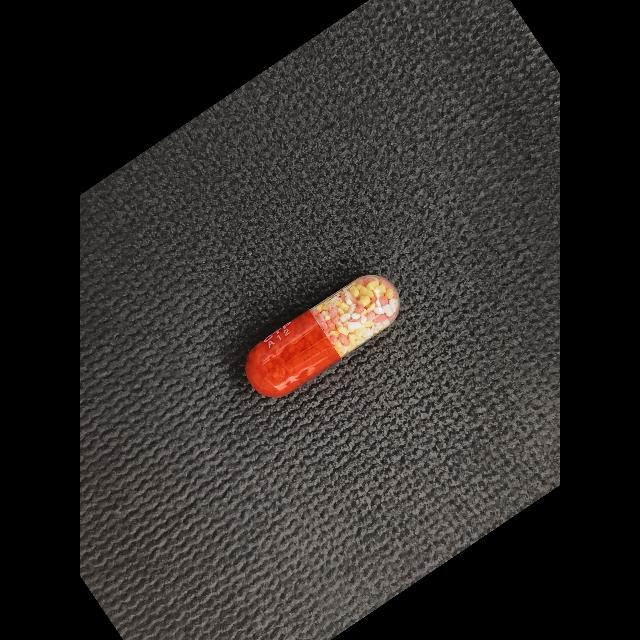Intact Capsule: (245, 275, 400, 397)
